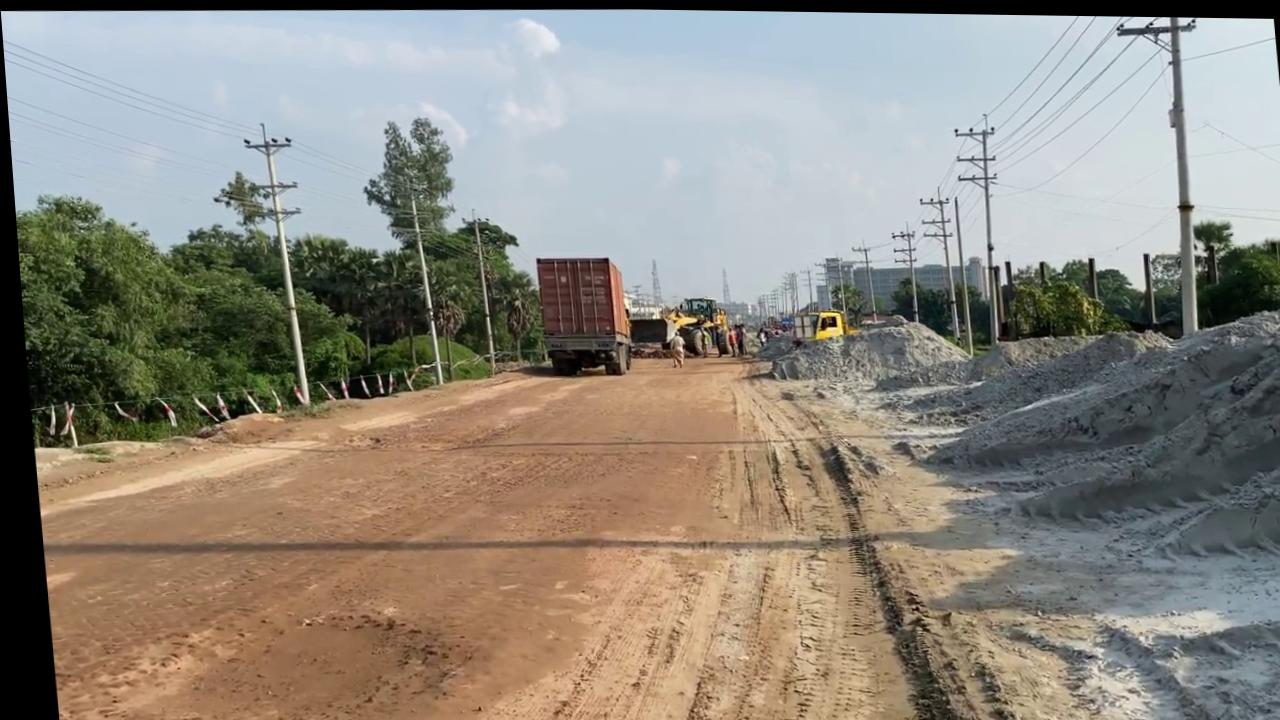Garbage: (743, 292, 1280, 720)
Obstacle: (528, 252, 628, 375), (622, 314, 667, 356)
Pole: (1151, 13, 1203, 331), (406, 192, 439, 384)
Traffic-sign: (354, 112, 469, 383)
Tree: (529, 251, 730, 375), (659, 293, 727, 356), (621, 304, 701, 356), (783, 306, 857, 347)
